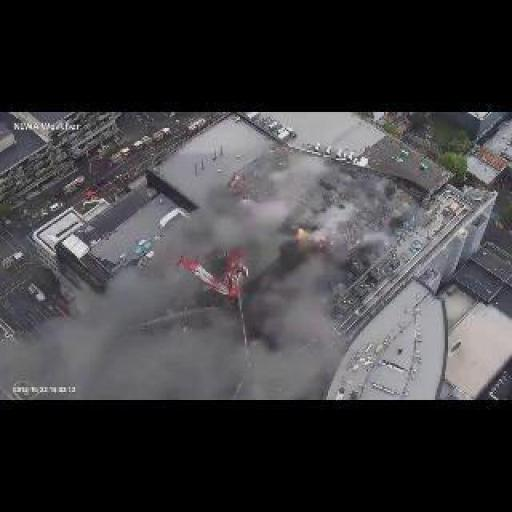smoke: (6, 159, 349, 404), (230, 174, 238, 188), (296, 226, 302, 238)
